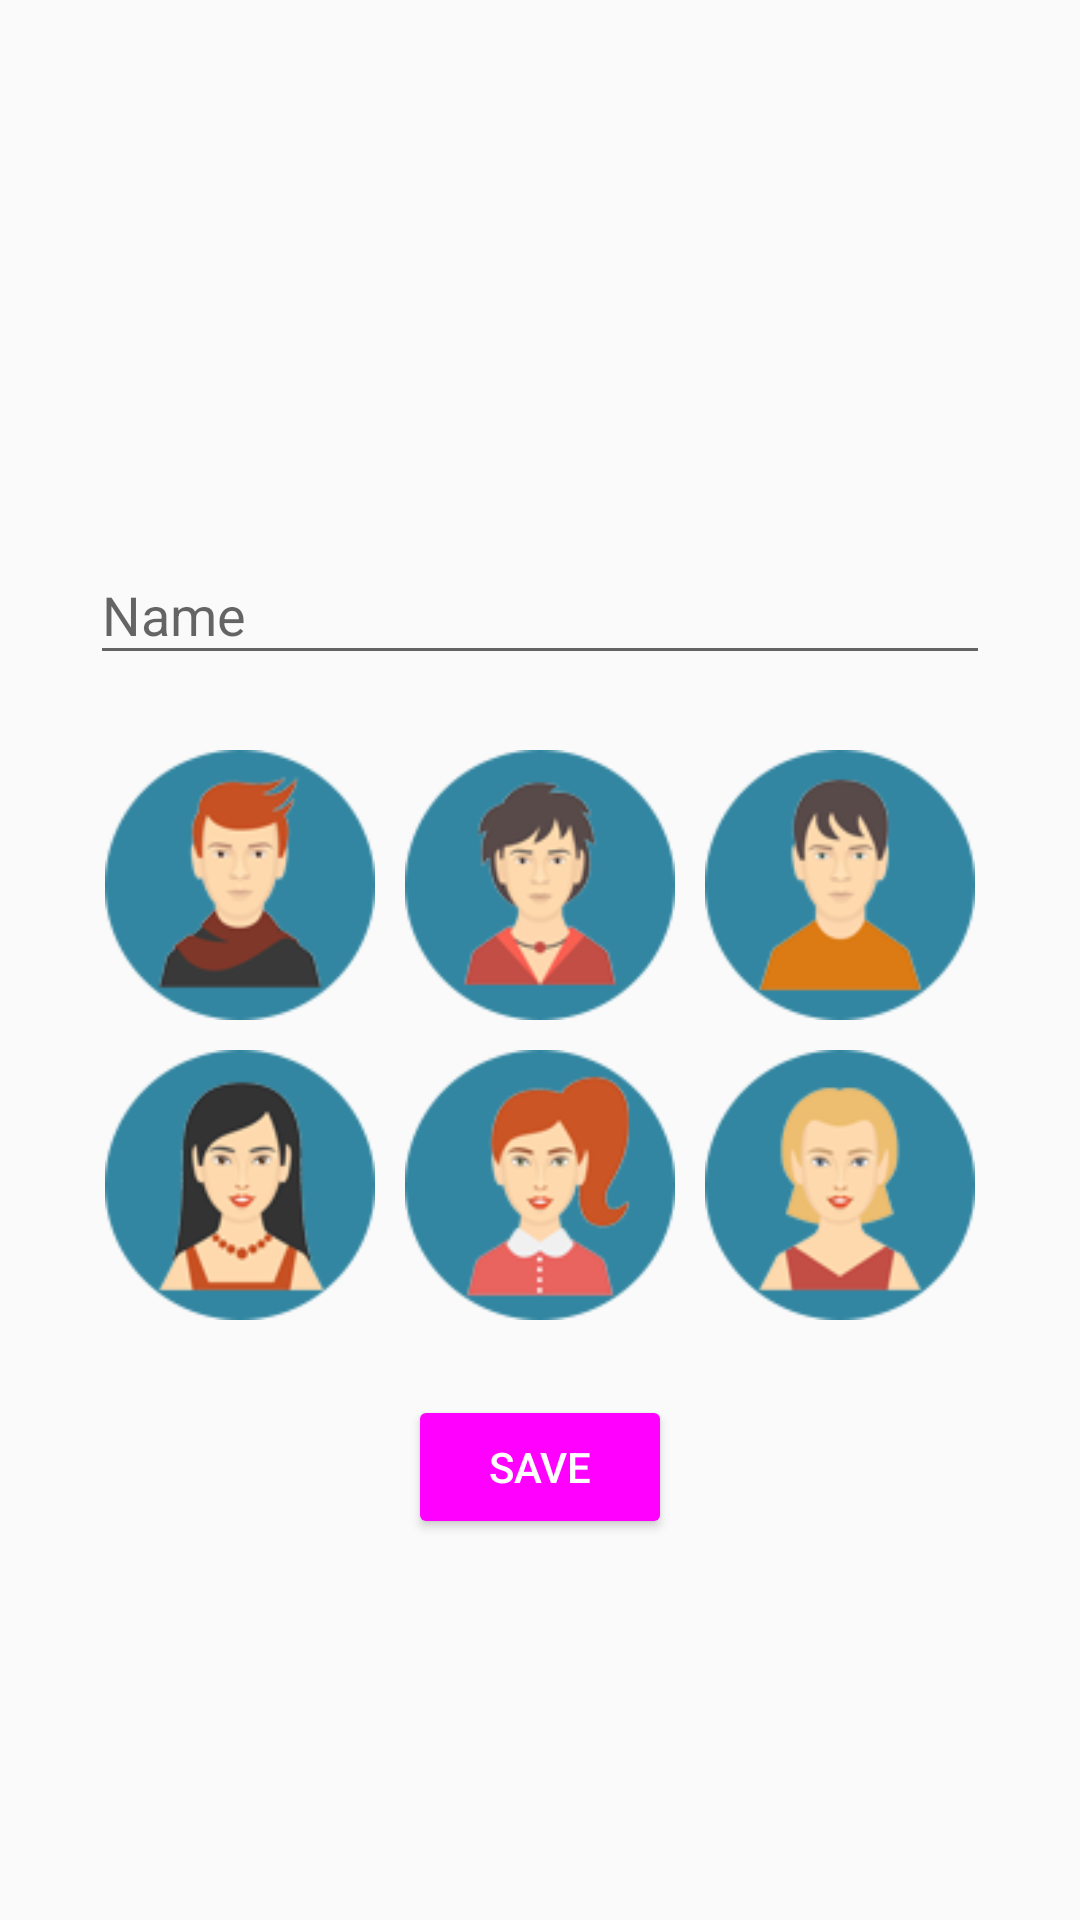

Named icons in this screenshot (1080px x 1920px) and their bounding boxes, (x1=x1, y1=y1, x2=x2, y2=y2):
female: (x1=105, y1=1050, x2=375, y2=1320), (x1=405, y1=1050, x2=675, y2=1320), (x1=705, y1=1050, x2=975, y2=1320)
male: (x1=105, y1=750, x2=375, y2=1020), (x1=405, y1=750, x2=675, y2=1020), (x1=705, y1=750, x2=975, y2=1020)
